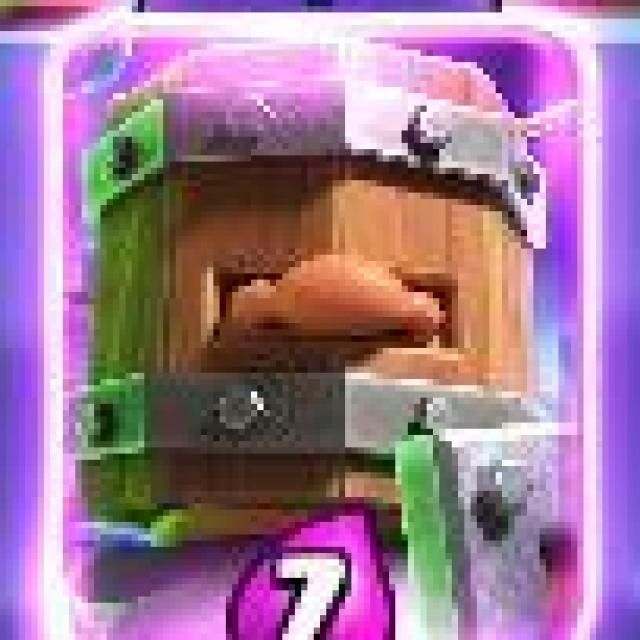Evolved_Recruits: (47, 15, 608, 640)
